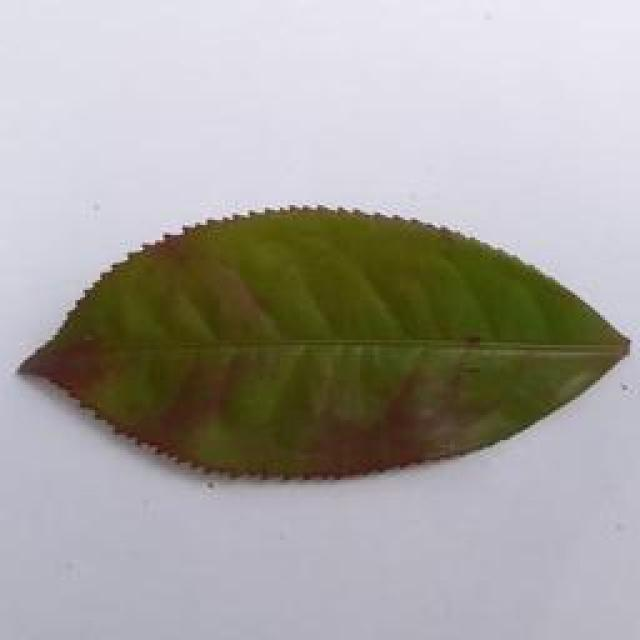Red Leaf Spot: (10, 200, 640, 484)
